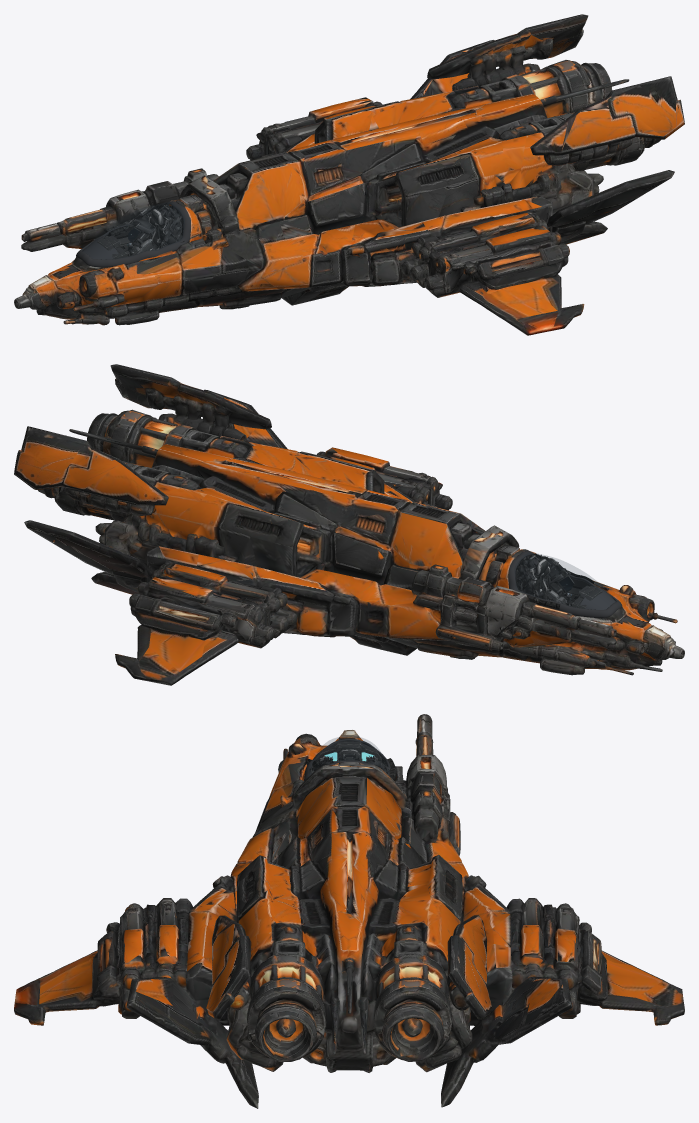
File: tracker.glb
3 views of the same model, one above another, from view 1: azimuth 30°, elevation 25°; view 2: azimuth 150°, elevation 25°; view 3: azimuth 270°, elevation 25° (orthographic). The views are drawn at different scales.
Parts seen in each view (by area): view 1: tracker_game_hull, tracker_game_glass, tracker_game_cockpit, tracker_game_canopy_frame; view 2: tracker_game_hull, tracker_game_glass, tracker_game_cockpit, tracker_game_canopy_frame, tracker_game_tub; view 3: tracker_game_hull, tracker_game_glass, tracker_game_console, tracker_game_cockpit.
Boxes of the visible parts, box(x1,y1,x2,y2) form: tracker_game_hull: box(14, 14, 684, 335); tracker_game_glass: box(82, 203, 184, 259); tracker_game_cockpit: box(127, 203, 182, 256); tracker_game_canopy_frame: box(76, 201, 190, 267); tracker_game_hull: box(14, 364, 684, 685); tracker_game_glass: box(515, 553, 616, 609); tracker_game_cockpit: box(517, 553, 574, 606); tracker_game_canopy_frame: box(508, 551, 622, 617); tracker_game_tub: box(516, 555, 615, 606); tracker_game_hull: box(14, 714, 684, 1108); tracker_game_glass: box(309, 736, 389, 774); tracker_game_console: box(316, 741, 381, 764); tracker_game_cockpit: box(309, 749, 389, 773).
Bounding box in the file's own units: 1.9 × 0.5075 × 1.46.
Materials: 9 (5 with a texture image).
